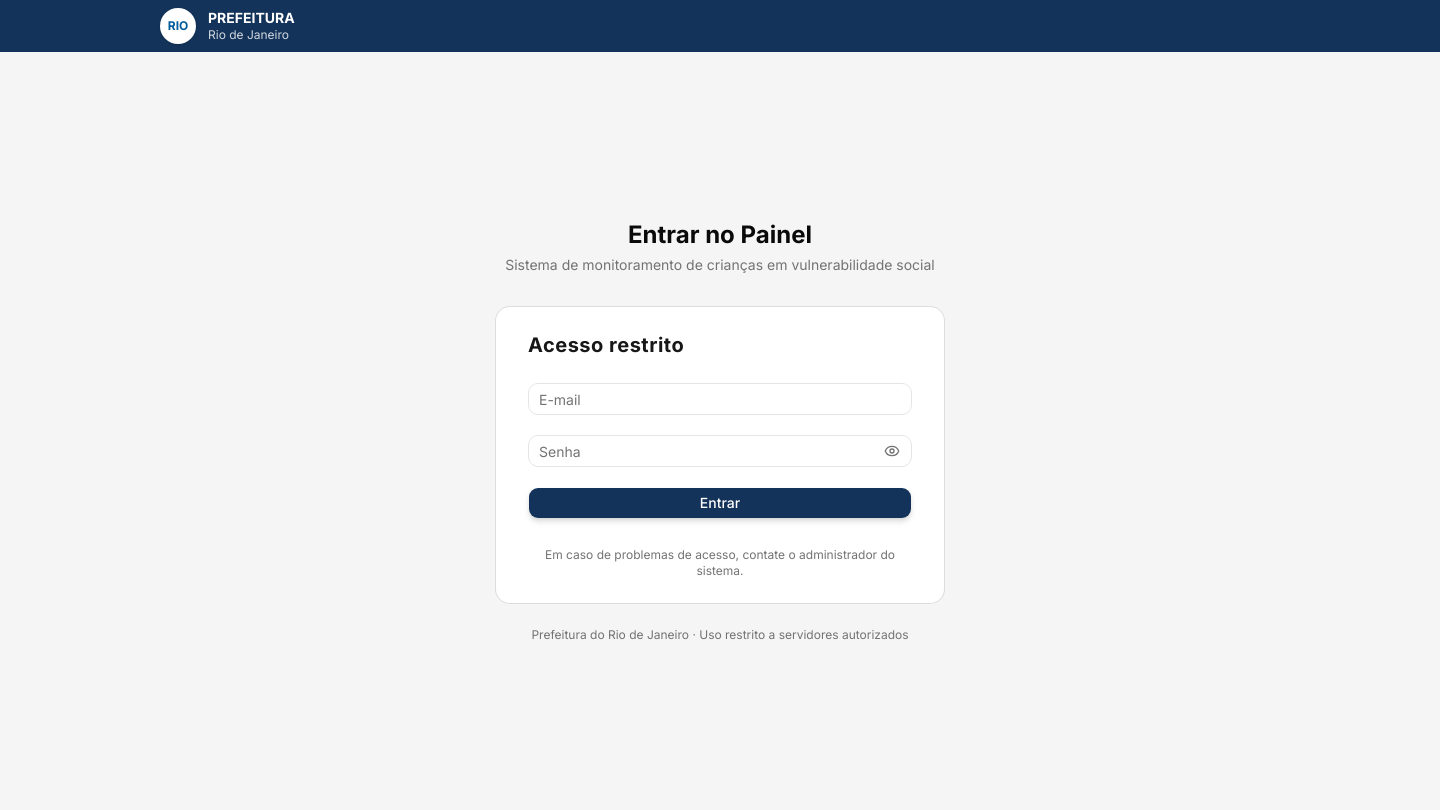
LoginPage › exibe erro de validação para senha vazia
In the field with placeholder "E-mail": (720, 399) [528, 383, 912, 415], type "tecnico@prefeitura.rio"
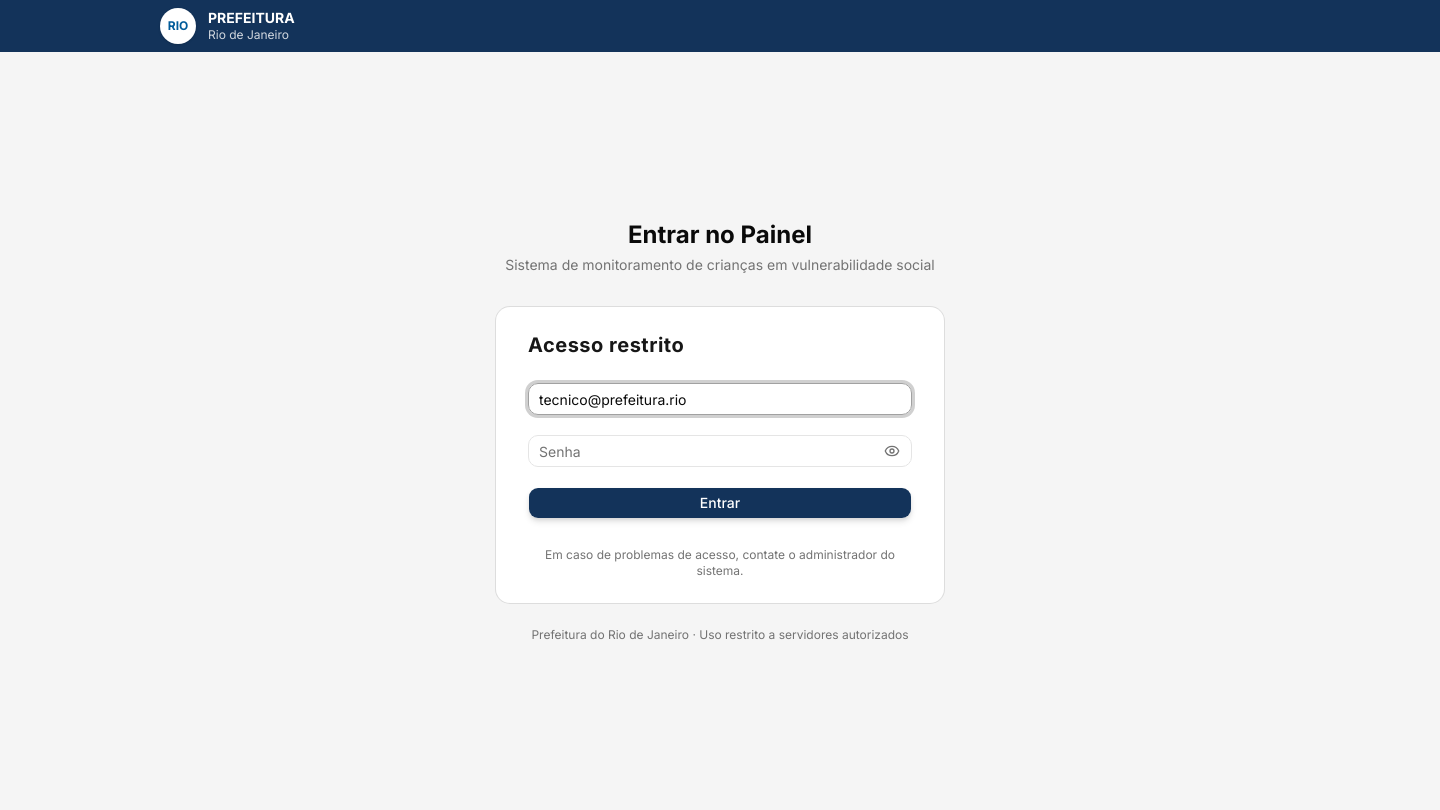
Click the button "Entrar": (720, 503) [528, 487, 912, 519]
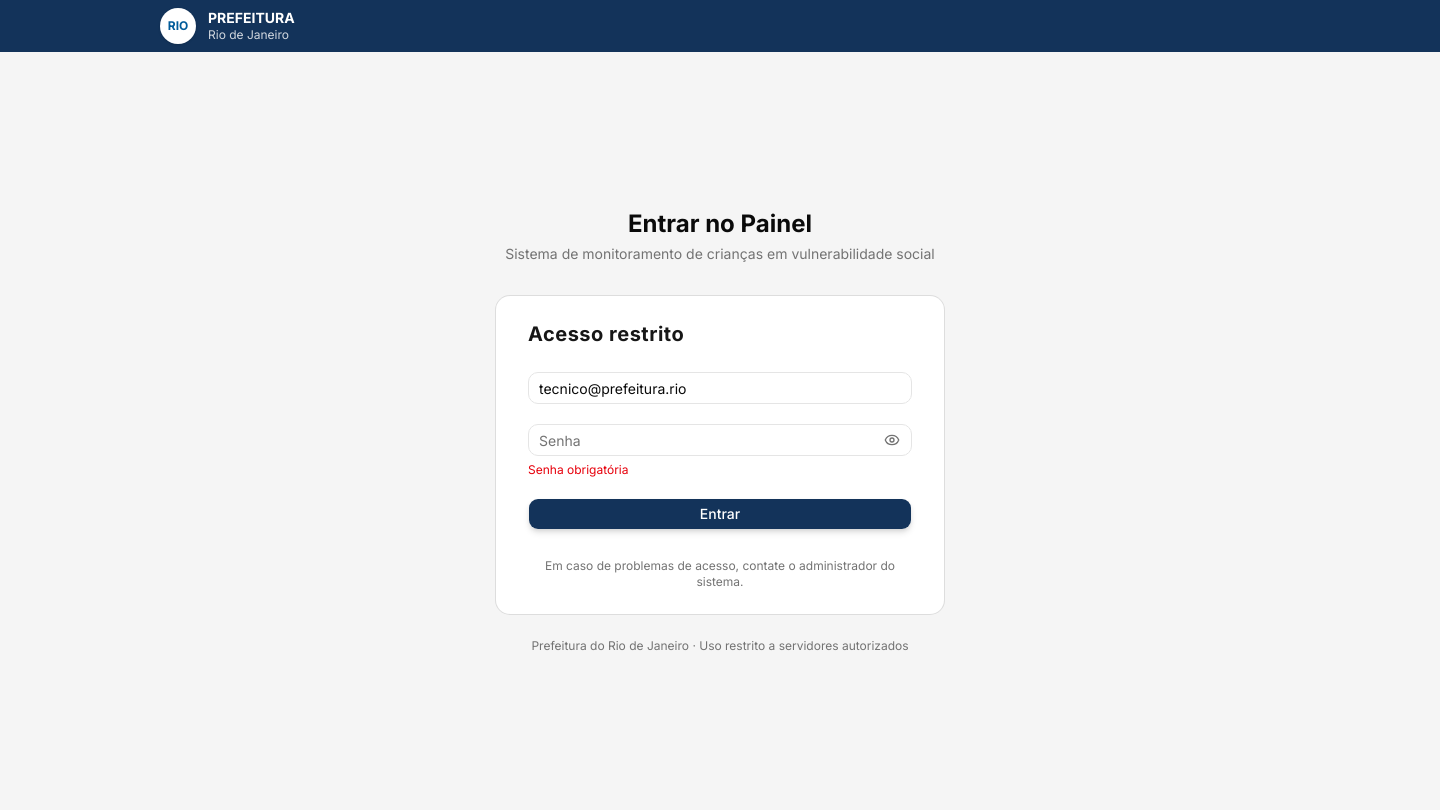
Check: the text "Senha obrigatória" is shown, box [528, 462, 628, 477]
